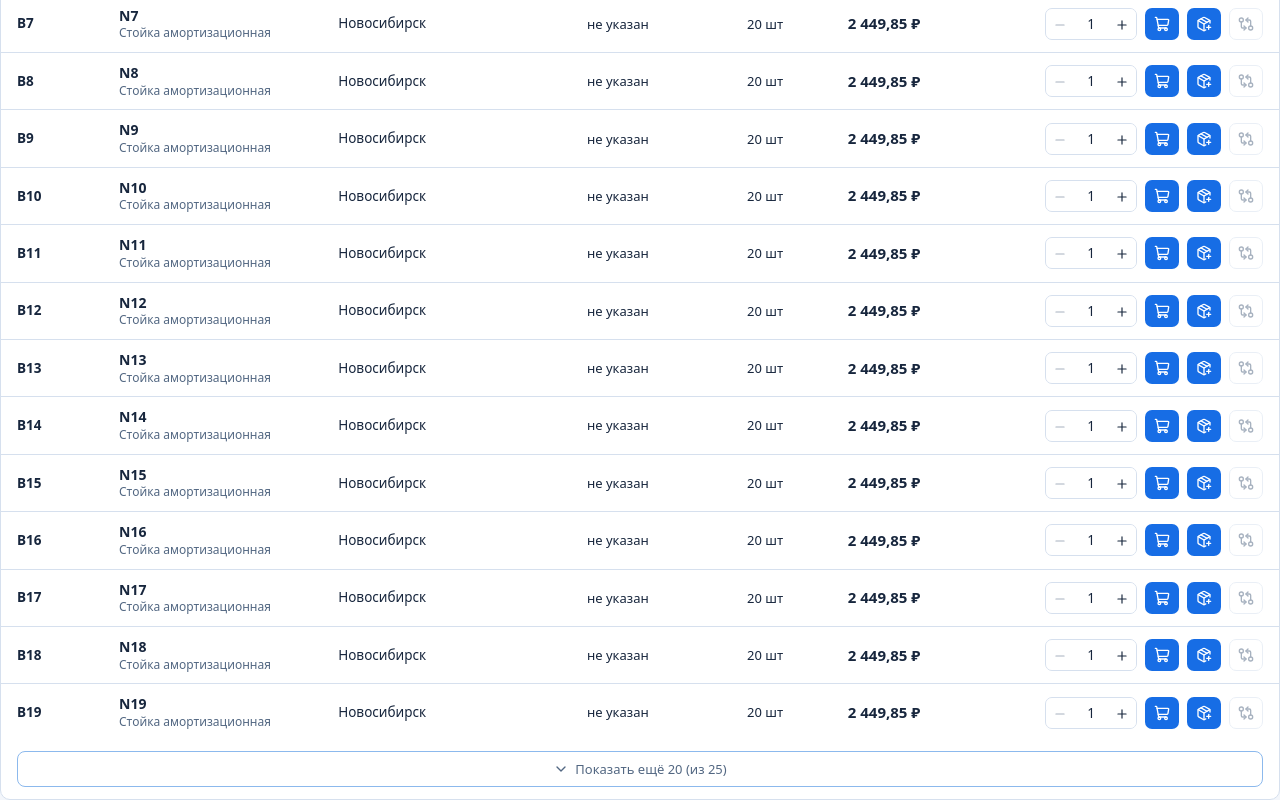
it: PartTable › shows 20 analogs and more on request
(page scrolled)
What coordinates should you click on to do the following:
click the button "Показать ещё 20 (из 25)"
I would click on:
 (640, 769)
Its box is [17,751,1263,787].
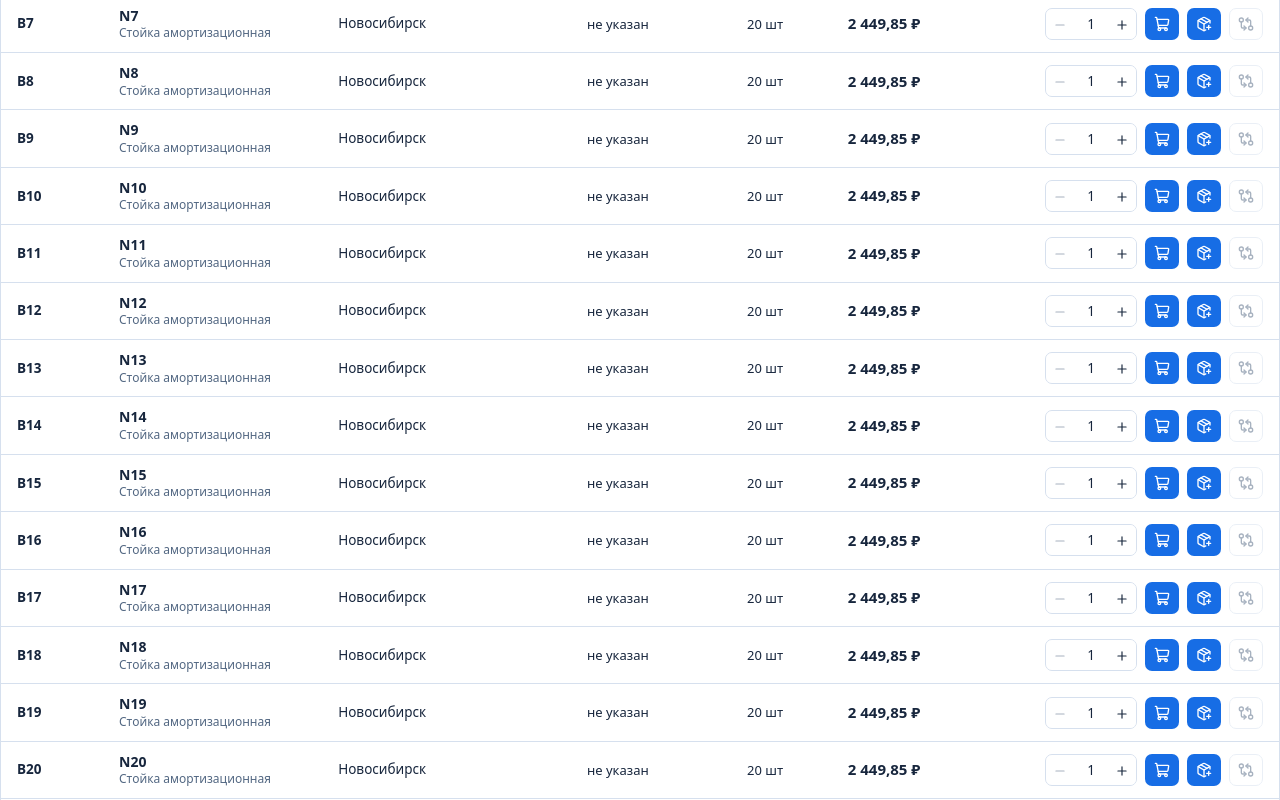
Now the button "Показать ещё" is gone
